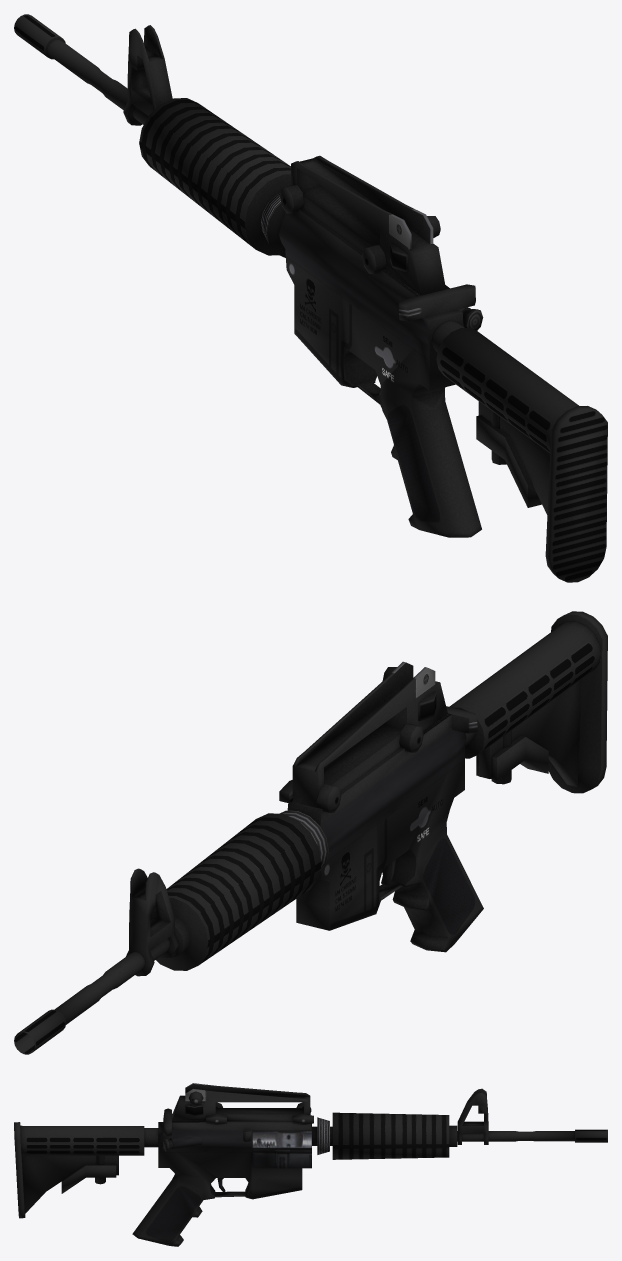
The model's file is rifle_2.glb.
The picture shows the model from 3 angles, top to bottom: view 1: azimuth 30°, elevation 25°; view 2: azimuth 150°, elevation 25°; view 3: azimuth 270°, elevation 25°; orthographic projection. The views are drawn at different scales.
Visible parts, largest first — view 1: M4 Carbine; view 2: M4 Carbine; view 3: M4 Carbine.
Part boxes in pixels (x1=…): M4 Carbine: x1=14, y1=14, x2=607, y2=582; M4 Carbine: x1=14, y1=611, x2=607, y2=1054; M4 Carbine: x1=14, y1=1083, x2=607, y2=1246.
Size of the model in its own units: 0.1696 by 0.5681 by 1.96.
1 material, 1 textured.
